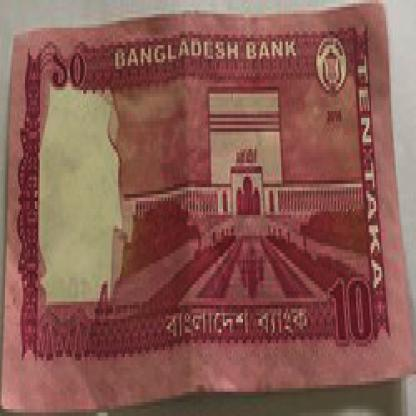Ten Taka: (328, 280, 381, 353), (50, 42, 96, 108)
